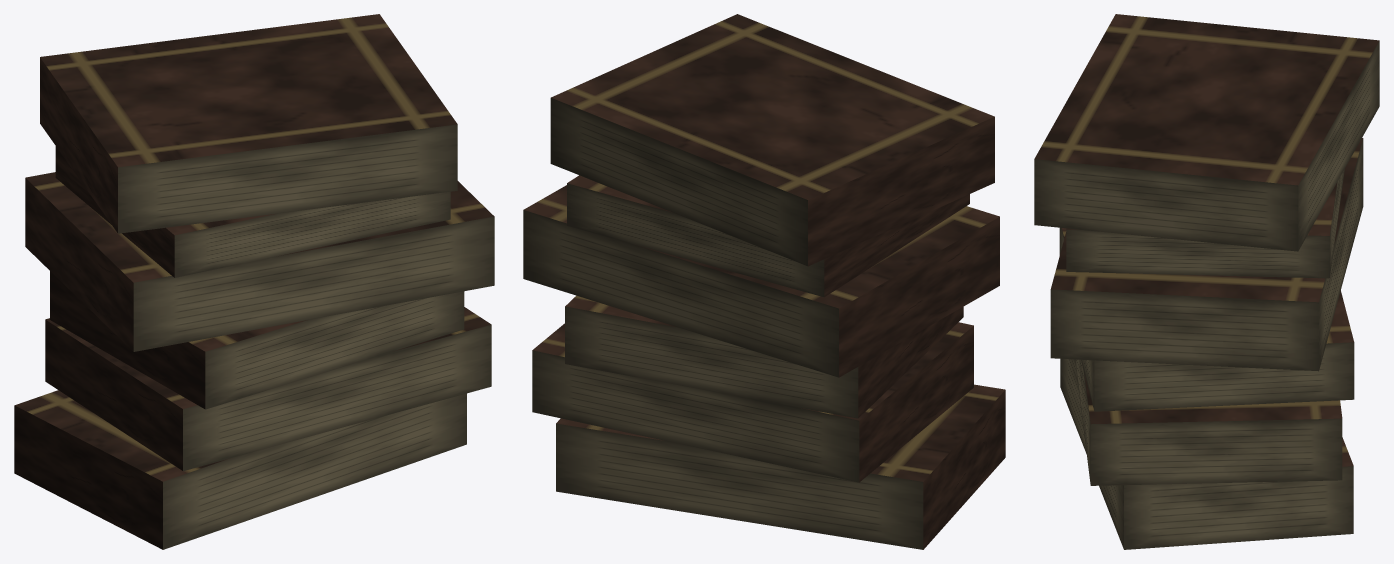
Rendered from PSXH_Books_Stack.fbx.
The picture shows the model from 3 angles, left to right: view 1: azimuth 30°, elevation 25°; view 2: azimuth 150°, elevation 25°; view 3: azimuth 270°, elevation 25°; orthographic projection.
Visible parts, largest first — view 1: PSXH_Books_Stack; view 2: PSXH_Books_Stack; view 3: PSXH_Books_Stack.
Part boxes in pixels (x1,y1,x2,y2): PSXH_Books_Stack: (14,14,494,549); PSXH_Books_Stack: (523,14,1005,549); PSXH_Books_Stack: (1034,14,1379,549).
Bounding box in the file's own units: 0.2913 × 0.2639 × 0.2266.
1 material, 1 textured.
